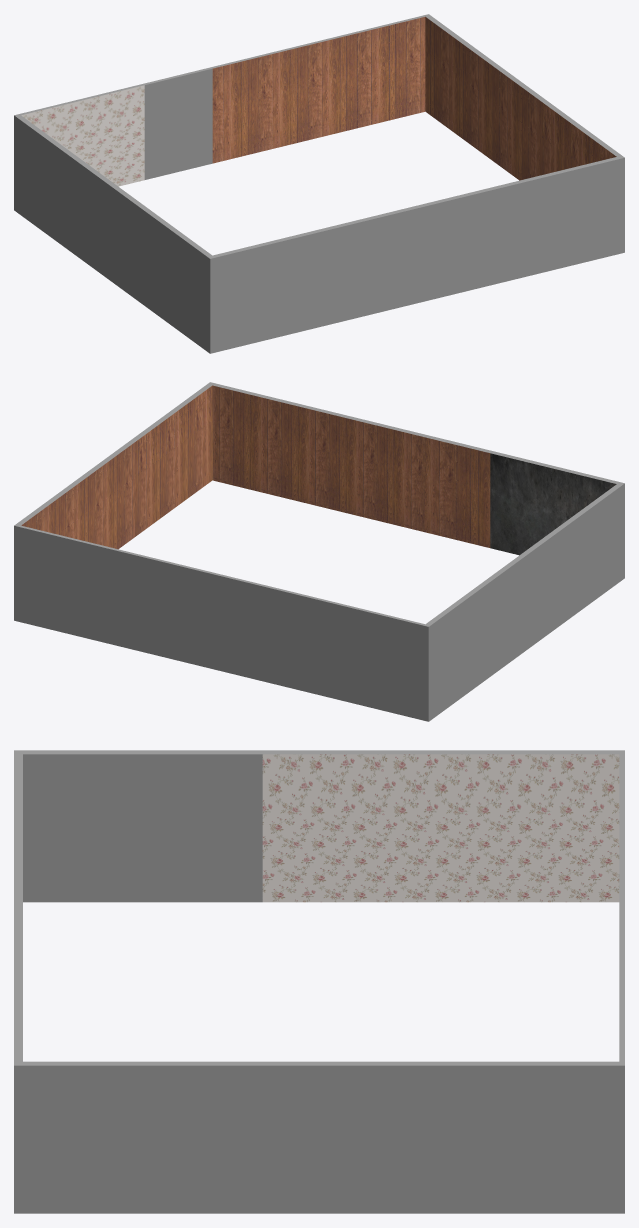
File: FarmhouseOutsideWalls.fbx
The picture shows the model from 3 angles, top to bottom: view 1: azimuth 30°, elevation 25°; view 2: azimuth 150°, elevation 25°; view 3: azimuth 270°, elevation 25°; orthographic projection. The views are drawn at different scales.
Visible parts, largest first — view 1: FarmhouseWalls; view 2: FarmhouseWalls; view 3: FarmhouseWalls.
Part boxes in pixels (box(x1,y1,x2,y2)): FarmhouseWalls: box(14, 14, 624, 353); FarmhouseWalls: box(14, 382, 624, 721); FarmhouseWalls: box(14, 750, 624, 1213).
Bounding box in the file's own units: 56.31 × 12.32 × 46.12.
